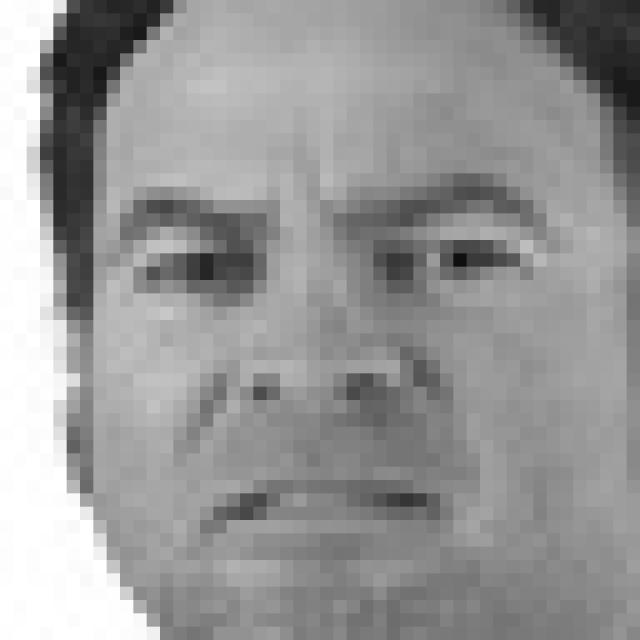disgust: (99, 132, 568, 574)
